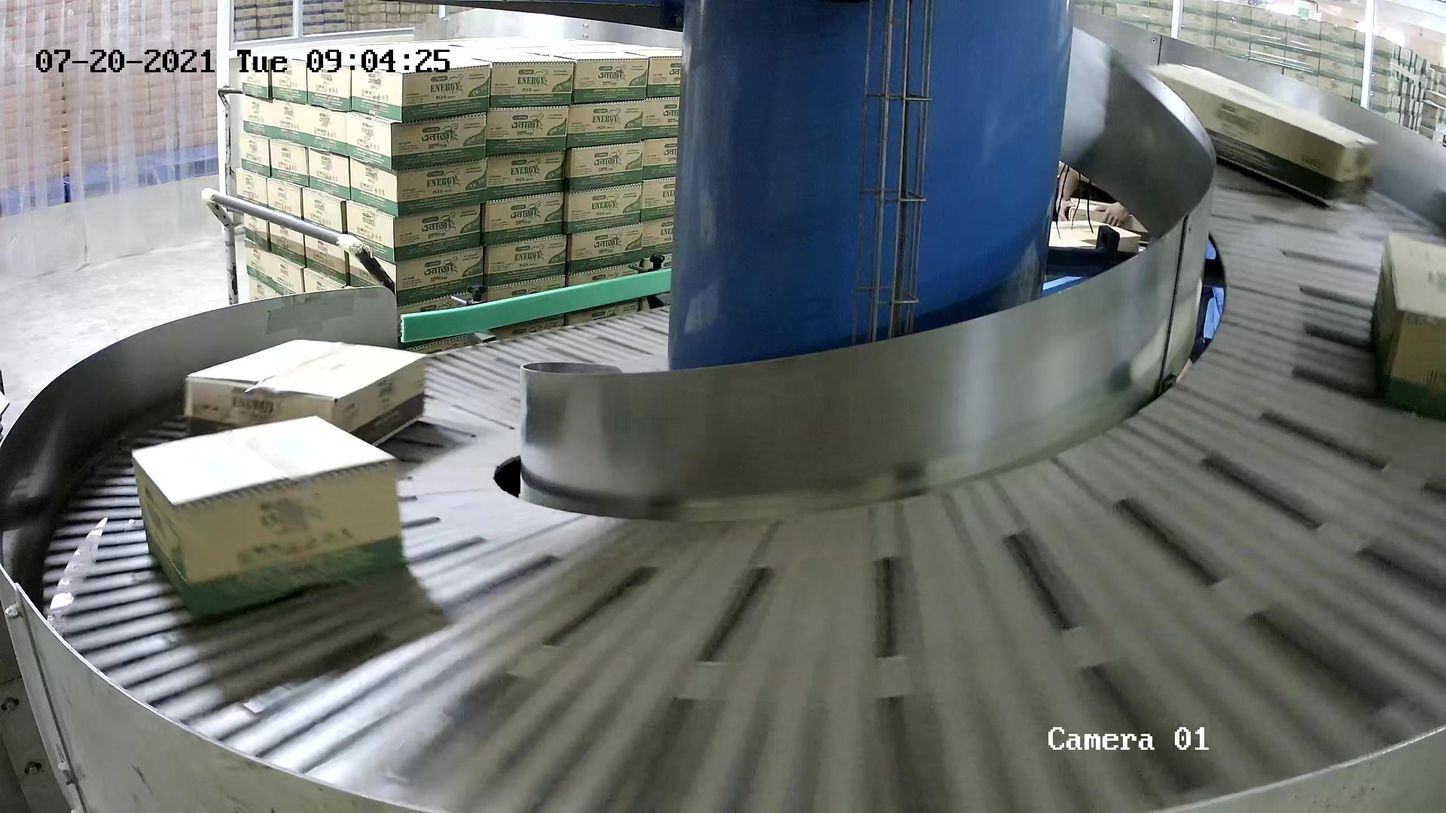Box: (130, 412, 410, 624), (1143, 57, 1382, 214), (182, 335, 433, 458), (1368, 226, 1446, 418)
